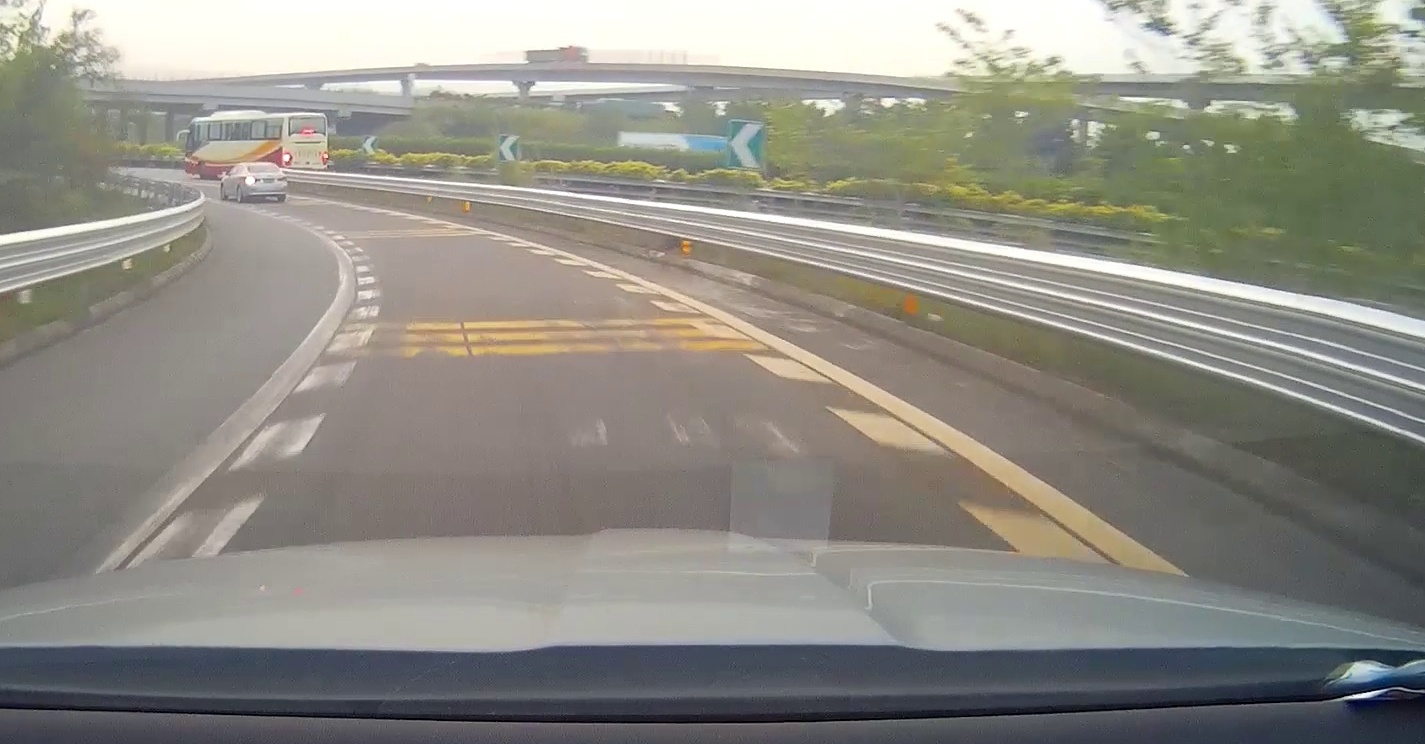L_light: (244, 177, 259, 184)
R_light: (276, 176, 287, 182)
T_light: (258, 165, 266, 166)
day-left: (241, 162, 288, 203)
